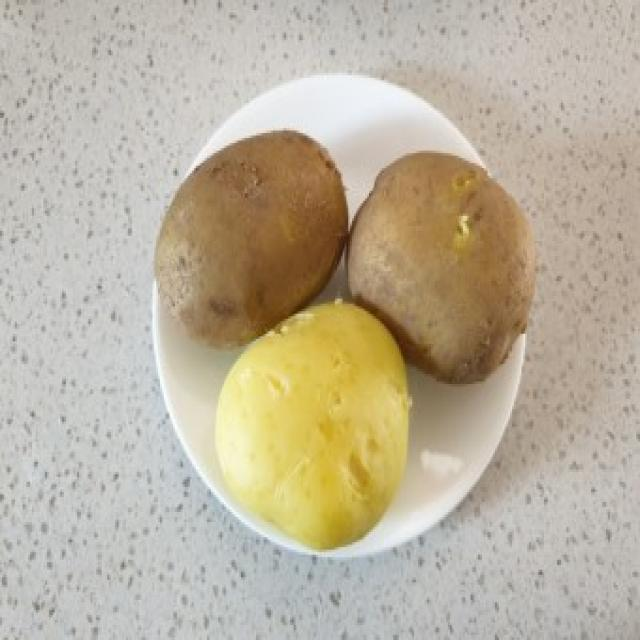potato: (212, 290, 413, 552), (344, 144, 542, 378), (154, 126, 356, 347)
